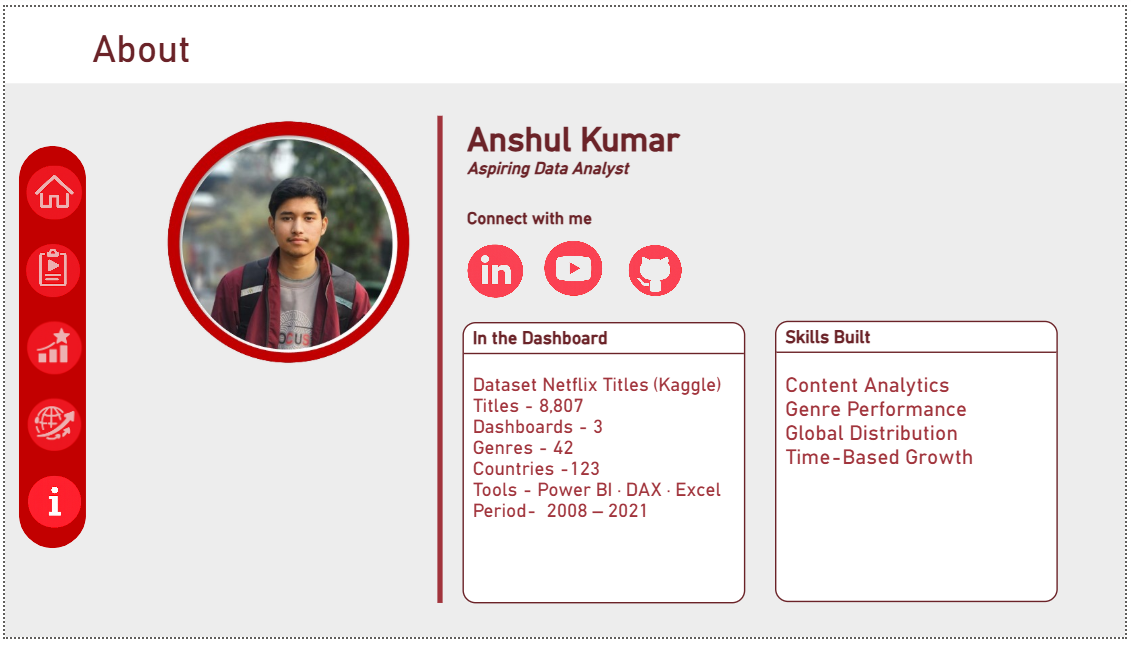

What the dashboard file says about the page in this screenshot:
{"tool":"powerbi","page":{"name":"About","canvas":[1280,720],"ordinal":4},"visuals":[{"type":"shape","box":[0,0,1280,720],"z":0},{"type":"textbox","box":[94.3,18.6,165.7,68.6],"z":1000},{"type":"shape","box":[0,86.7,1280,633.3],"z":2000},{"type":"image","box":[177.1,124.3,291.4,285.7],"z":3000},{"type":"shape","box":[468.6,124.3,57.1,557.1],"z":4000},{"type":"textbox","box":[522.9,124.3,312.9,142.9],"z":5000},{"type":"actionButton","box":[615.7,270,68.6,62.9],"z":6000},{"type":"actionButton","box":[708.6,270,68.6,62.9],"z":7000},{"type":"actionButton","box":[525.7,270,68.6,62.9],"z":8000},{"type":"shape","box":[15.7,158.6,77.1,460],"z":9000},{"type":"actionButton","box":[24.3,181.4,64.3,61.4],"z":10000},{"type":"actionButton","box":[22.9,269.6,64.3,61.4],"z":11000},{"type":"actionButton","box":[24.3,357.9,64.3,61.4],"z":12000},{"type":"actionButton","box":[24.3,446.1,64.3,61.4],"z":13000},{"type":"actionButton","box":[24.3,534.3,64.3,61.4],"z":14000},{"type":"textbox","title":"In the Dashboard","box":[522.9,360,322.9,321.4],"z":15000},{"type":"textbox","title":"Skills Built","box":[880,358.6,322.9,321.4],"z":16000},{"type":"actionButton","box":[801.4,268.6,68.6,62.9],"z":16001}]}

Visuals, with their boxes in screenshot pixels (x1, y1, x2, y2), scaled from the page's 1280x720 canvas onto the 1131x646 screenshot:
shape: crop(0, 0, 1130, 645)
textbox: crop(83, 17, 230, 78)
shape: crop(0, 78, 1130, 645)
image: crop(156, 112, 414, 368)
shape: crop(414, 112, 465, 611)
textbox: crop(462, 112, 739, 240)
actionButton: crop(544, 242, 605, 299)
actionButton: crop(626, 242, 687, 299)
actionButton: crop(465, 242, 525, 299)
shape: crop(14, 142, 82, 555)
actionButton: crop(21, 163, 78, 218)
actionButton: crop(20, 242, 77, 297)
actionButton: crop(21, 321, 78, 376)
actionButton: crop(21, 400, 78, 455)
actionButton: crop(21, 479, 78, 534)
"In the Dashboard" textbox: crop(462, 323, 747, 611)
"Skills Built" textbox: crop(778, 322, 1063, 610)
actionButton: crop(708, 241, 769, 297)
